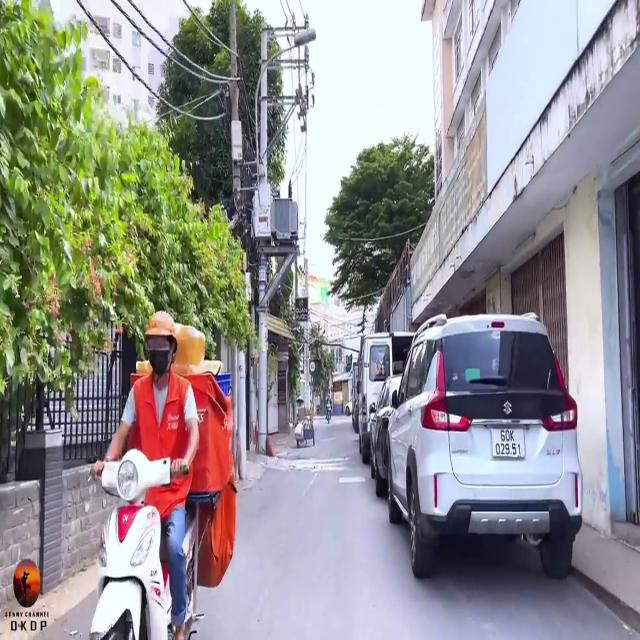bien_trang: (489, 424, 525, 460)
